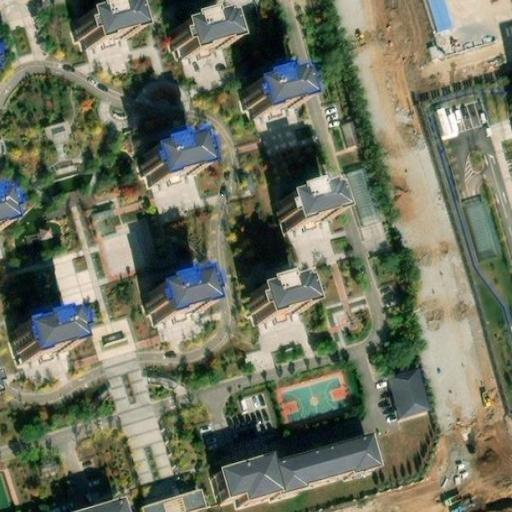building: (279, 432, 381, 489), (220, 449, 287, 500), (141, 273, 206, 321), (134, 135, 199, 183), (166, 10, 225, 57), (72, 1, 131, 47), (240, 69, 299, 115), (241, 276, 300, 322), (9, 313, 67, 358), (462, 193, 500, 260), (271, 184, 330, 227), (126, 435, 175, 486), (338, 167, 378, 229), (388, 369, 430, 417), (141, 489, 208, 512), (0, 172, 26, 227), (72, 497, 128, 512), (44, 116, 72, 145), (335, 115, 358, 147)
